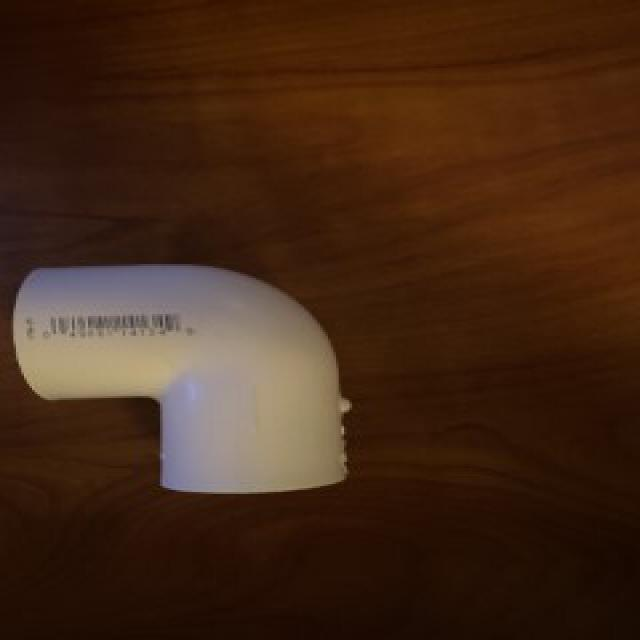L Joint: (11, 264, 350, 497)
